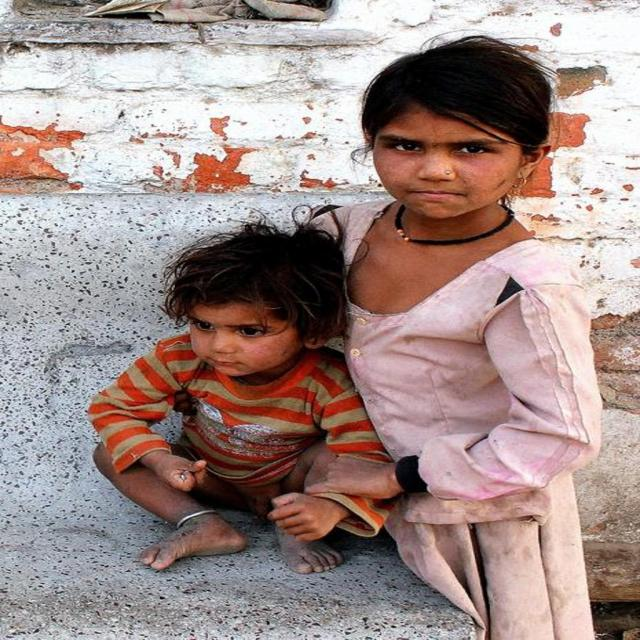nomask: (372, 104, 519, 214), (192, 284, 286, 378)
